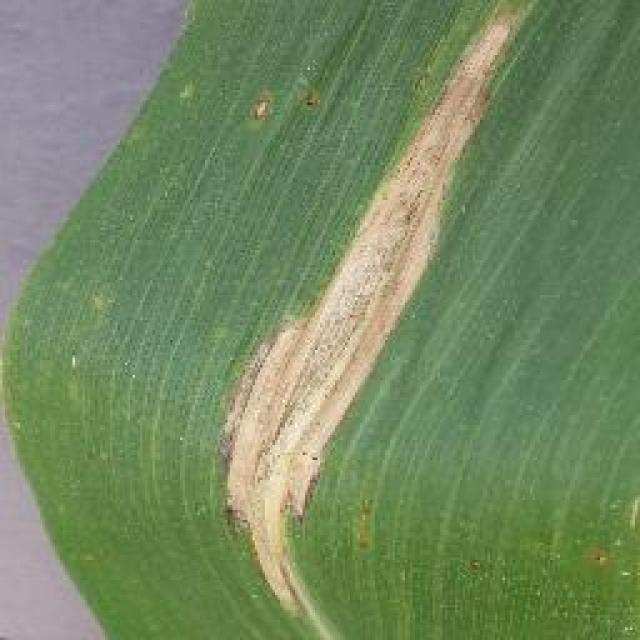Corn___Northern_Leaf_Blight: (137, 0, 626, 640)
